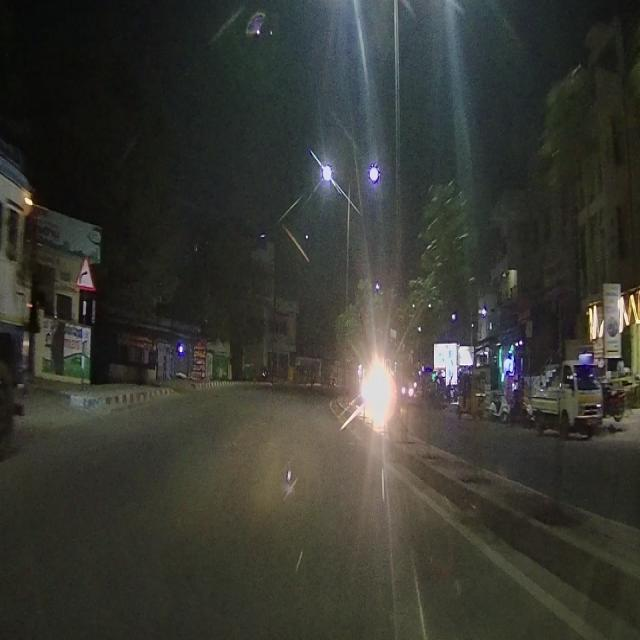right-hand-curve: (79, 256, 92, 288)
